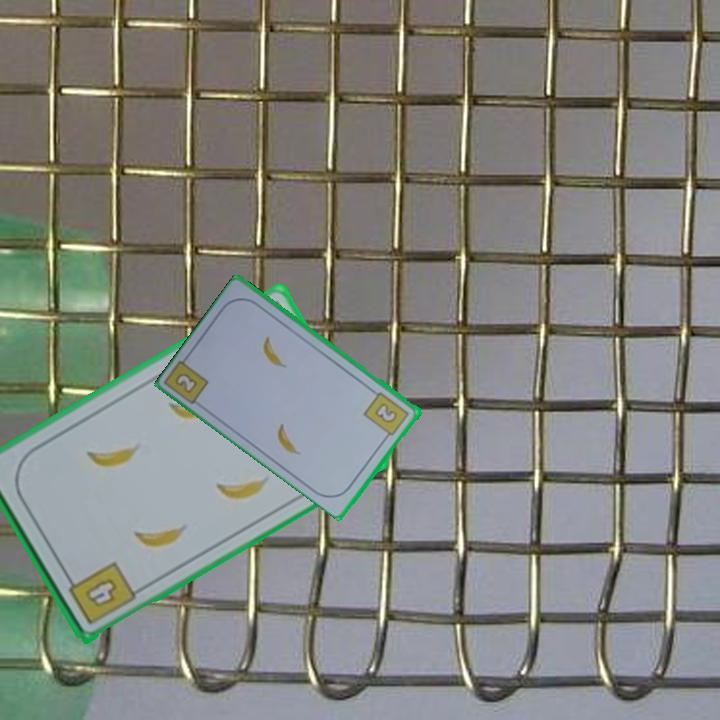2b: (360, 388, 412, 443), (172, 369, 201, 396)
4b: (62, 557, 139, 627)
